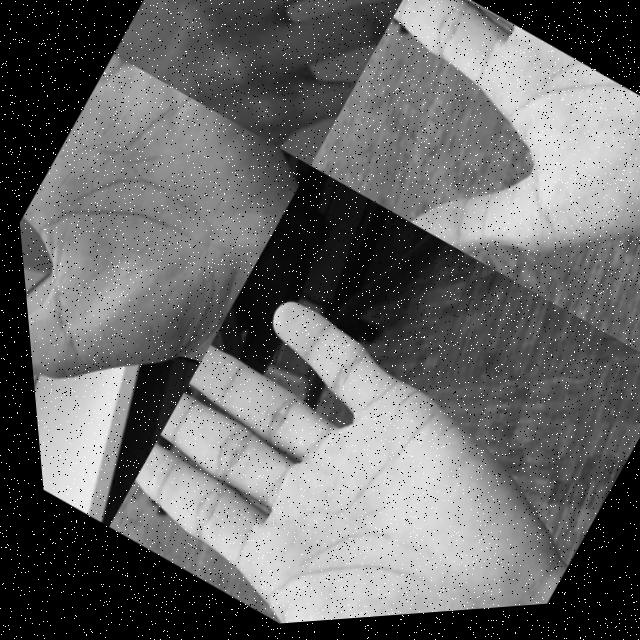hand: (81, 255, 615, 636), (4, 44, 331, 529), (294, 0, 640, 394), (108, 0, 432, 180)
